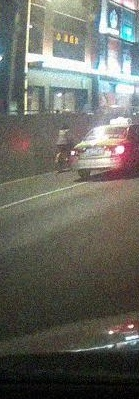L_light: (70, 148, 85, 155)
R_light: (106, 145, 127, 155)
T_light: (106, 127, 115, 130)
night-right: (70, 126, 133, 182)
